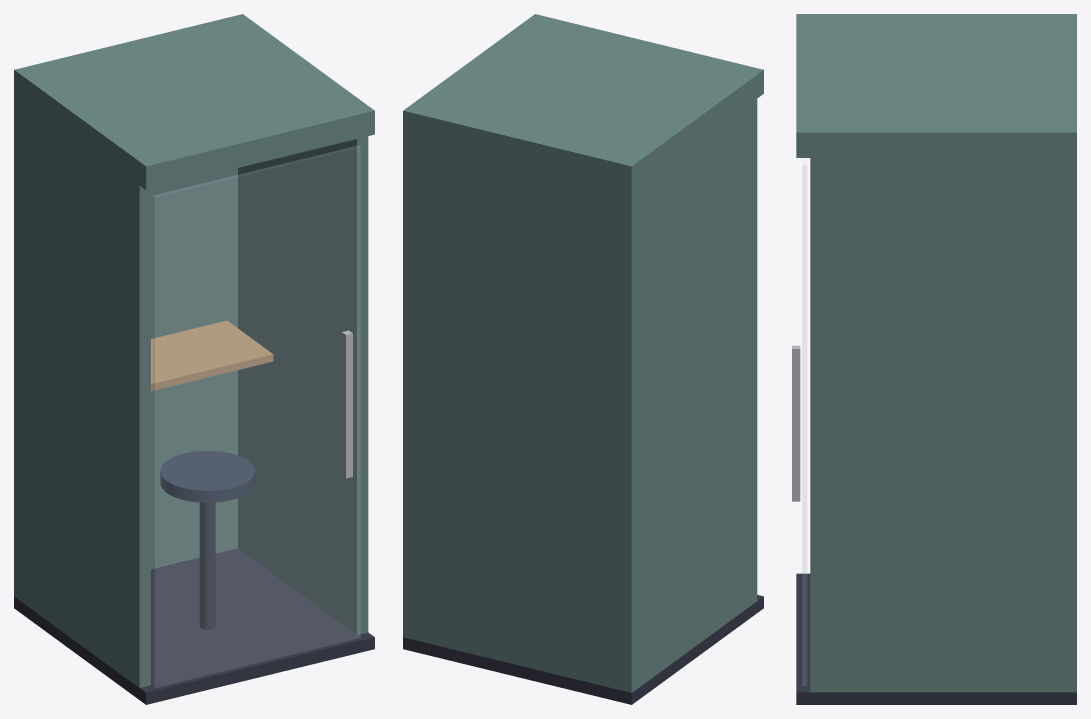
3 views of the same model, side by side, from view 1: azimuth 30°, elevation 25°; view 2: azimuth 150°, elevation 25°; view 3: azimuth 270°, elevation 25° (orthographic). The views are drawn at different scales.
Parts seen in each view (by area): view 1: felt_divider, glass_clear, dark_steel, oak, upholstery, stainless; view 2: felt_divider, dark_steel; view 3: felt_divider, dark_steel, glass_clear, stainless.
Boxes of the visible parts, left/top/right/bottom form: felt_divider: left=14, top=14, right=374, bottom=687; glass_clear: left=153, top=146, right=359, bottom=687; dark_steel: left=14, top=502, right=374, bottom=704; oak: left=151, top=320, right=273, bottom=391; upholstery: left=160, top=450, right=255, bottom=502; stainless: left=342, top=330, right=352, bottom=478; felt_divider: left=403, top=14, right=763, bottom=692; dark_steel: left=403, top=595, right=763, bottom=704; felt_divider: left=796, top=14, right=1076, bottom=692; dark_steel: left=796, top=573, right=1076, bottom=704; glass_clear: left=802, top=158, right=806, bottom=685; stainless: left=792, top=345, right=800, bottom=501.
Bounding box in the file's own units: 1 × 2.25 × 1.01.
